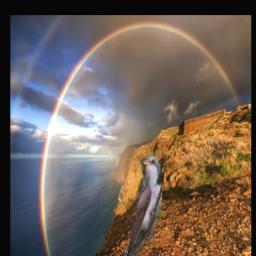Cuckoo: (122, 155, 163, 256)
